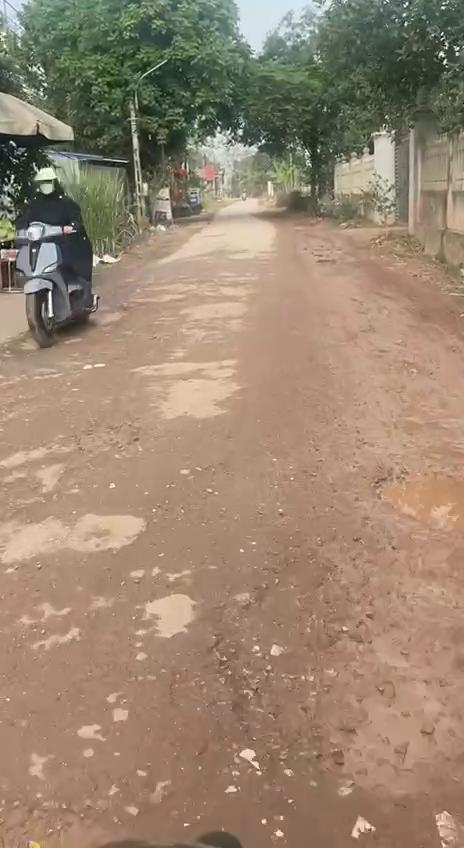pothole: (369, 460, 464, 539)
